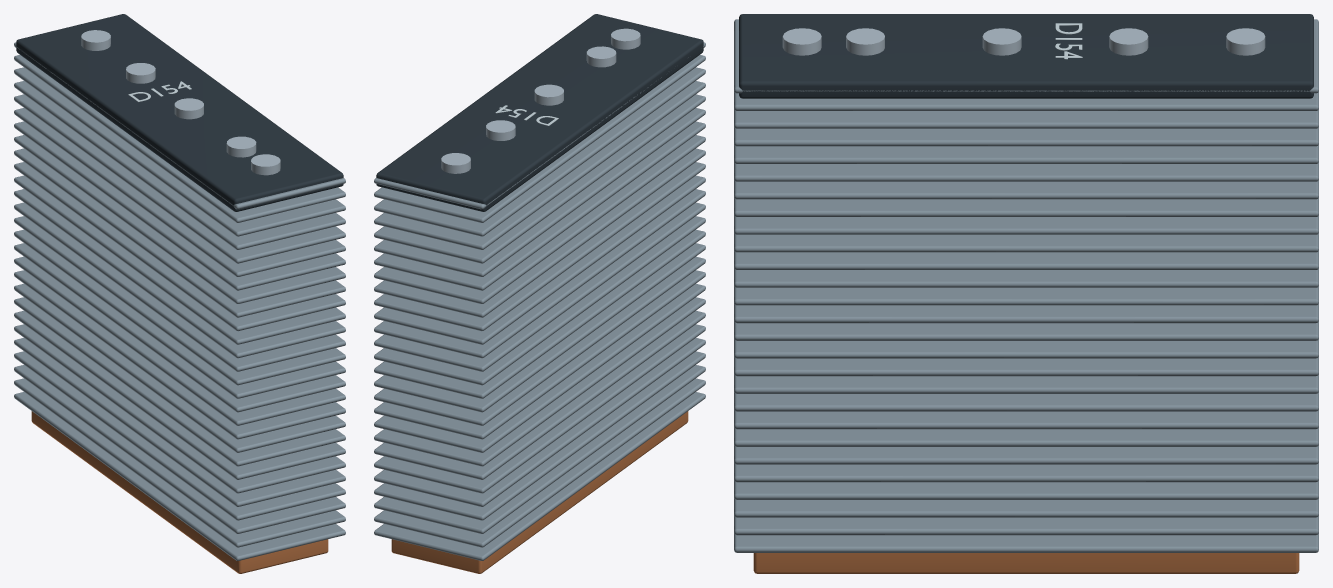
The model's file is tower.glb.
3 renders of one model, left to right at view 1: azimuth 30°, elevation 25°; view 2: azimuth 150°, elevation 25°; view 3: azimuth 270°, elevation 25°, orthographic. The views are drawn at different scales.
Visible parts, largest first — view 1: tower housing; view 2: tower housing; view 3: tower housing.
Boxes of the visible parts, bbox=[...] form: tower housing: bbox=[14, 14, 345, 573]; tower housing: bbox=[374, 14, 705, 573]; tower housing: bbox=[734, 14, 1318, 573].
Bounding box in the file's own units: 34 × 116 × 120.
